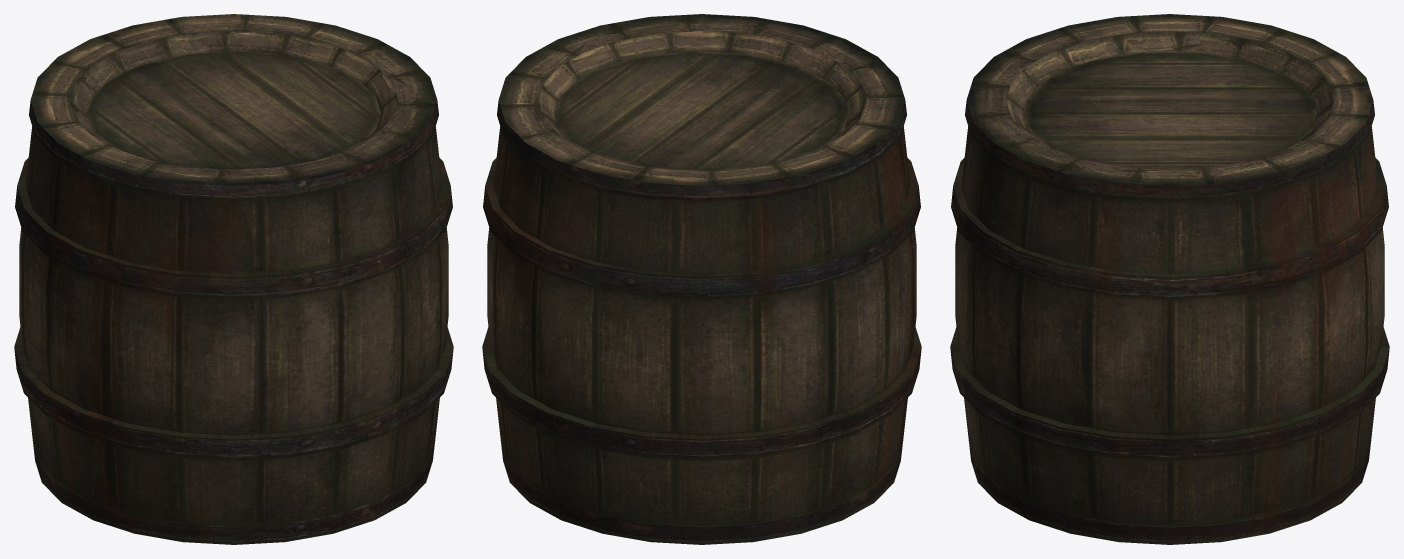
Rendered from barril.fbx.
3 renders of one model, left to right at view 1: azimuth 30°, elevation 25°; view 2: azimuth 150°, elevation 25°; view 3: azimuth 270°, elevation 25°, orthographic.
Parts seen in each view (by area): view 1: Cylinder; view 2: Cylinder; view 3: Cylinder.
Boxes of the visible parts, box(x1,y1,x2,y2) form: Cylinder: box(14, 14, 453, 544); Cylinder: box(482, 14, 921, 544); Cylinder: box(950, 14, 1389, 544).
Bounding box in the file's own units: 221 × 200 × 221.
1 material, 1 textured.
